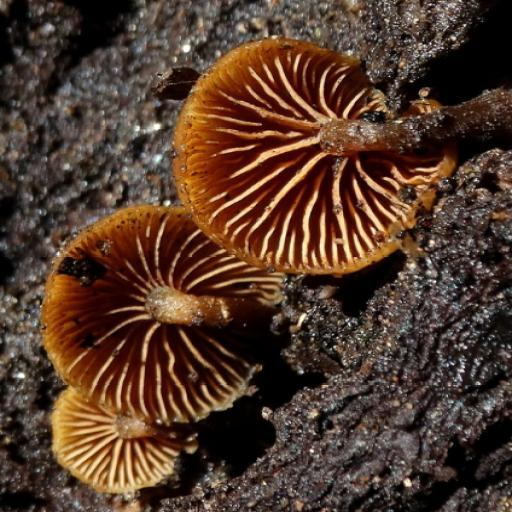mushroom: (161, 33, 512, 275), (19, 200, 292, 496)
